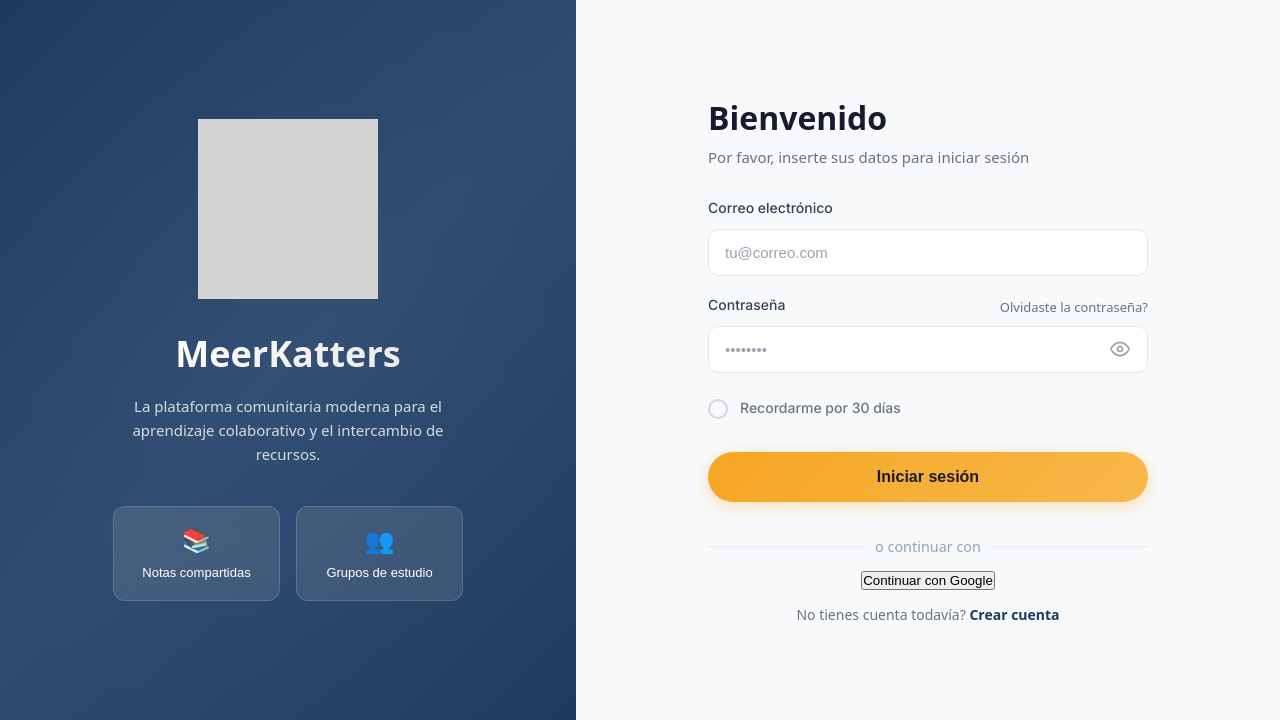
Test case: Login › shows email not verified with resend button
Type "user@test.com" into the field with placeholder "tu@correo.com" at (928, 253), box [708,229,1148,276]
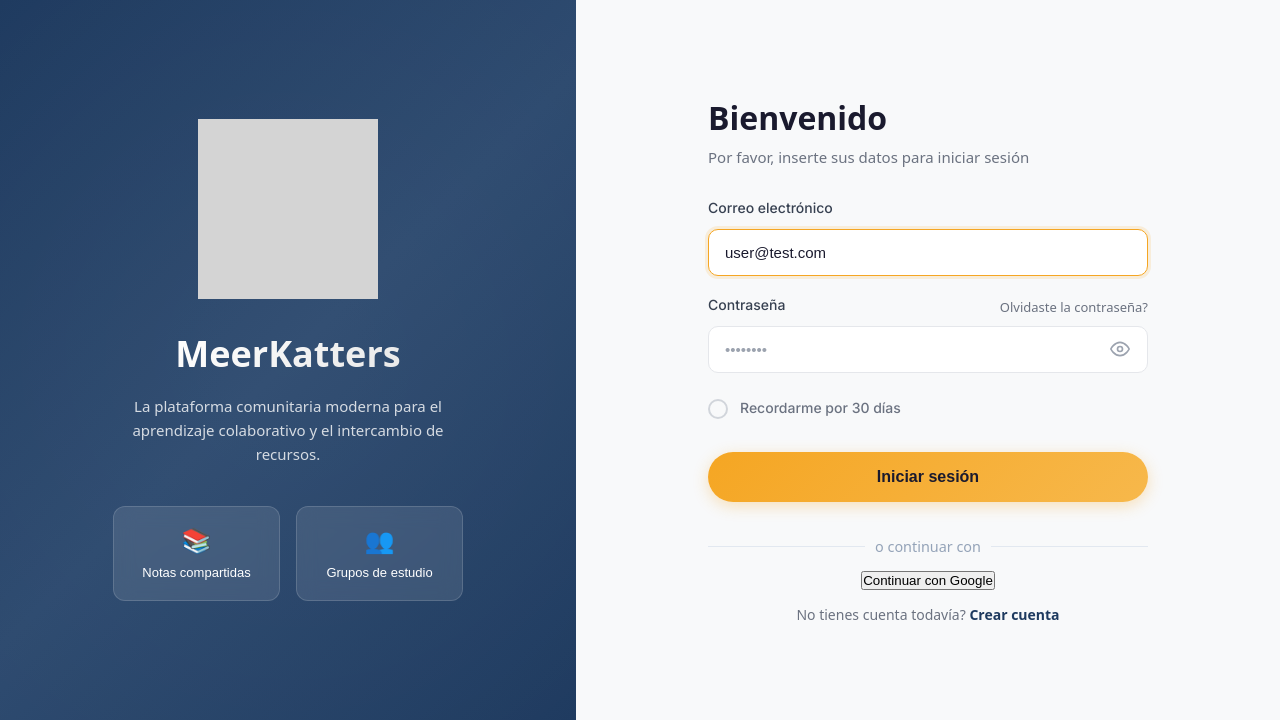
Type "pass123" into the password field with placeholder "••••••••" at (928, 349), box [708,326,1148,373]
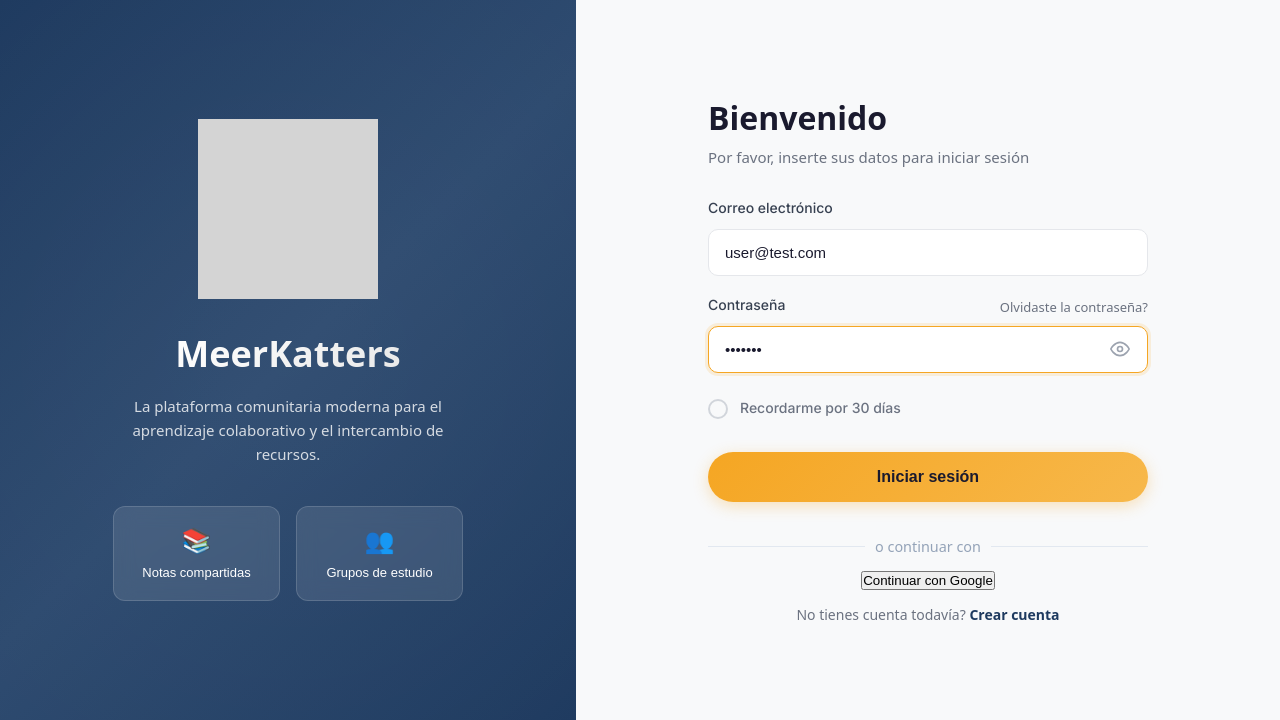
Click the button "Iniciar sesión" at (928, 477), box [708,452,1148,502]
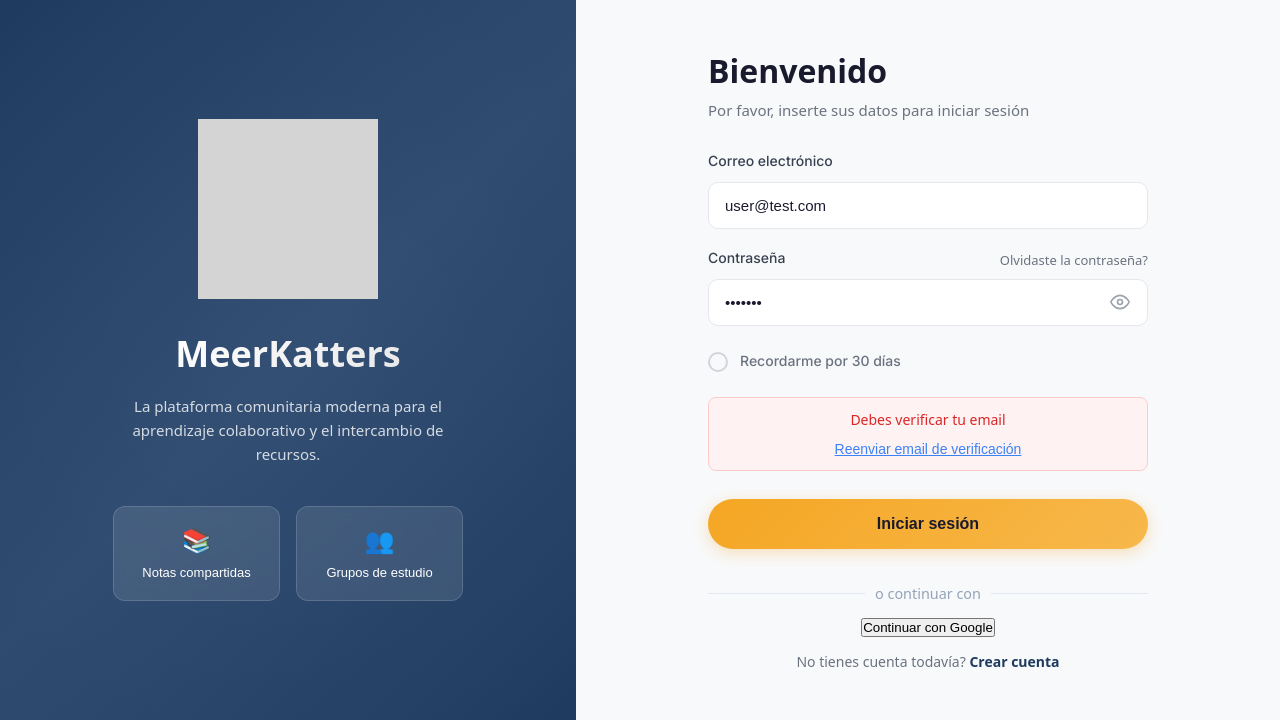
Now the button "Reenviar email de verificación" is shown, box [835,441,1021,457]
